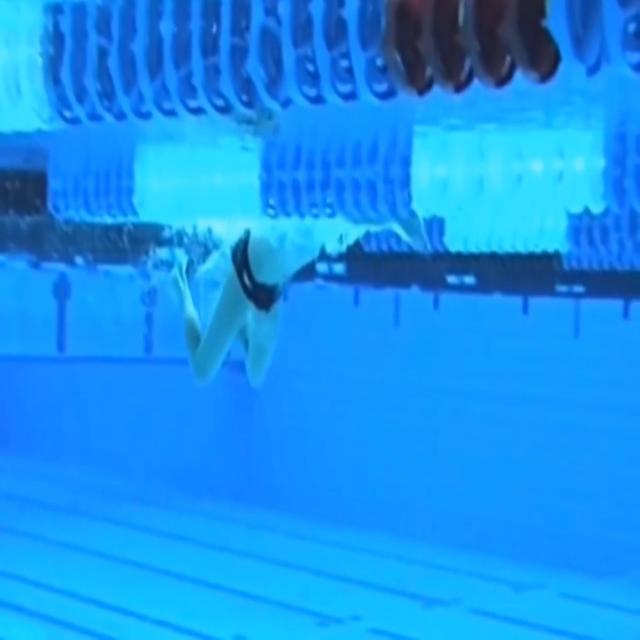Swimming: (166, 218, 336, 388)
